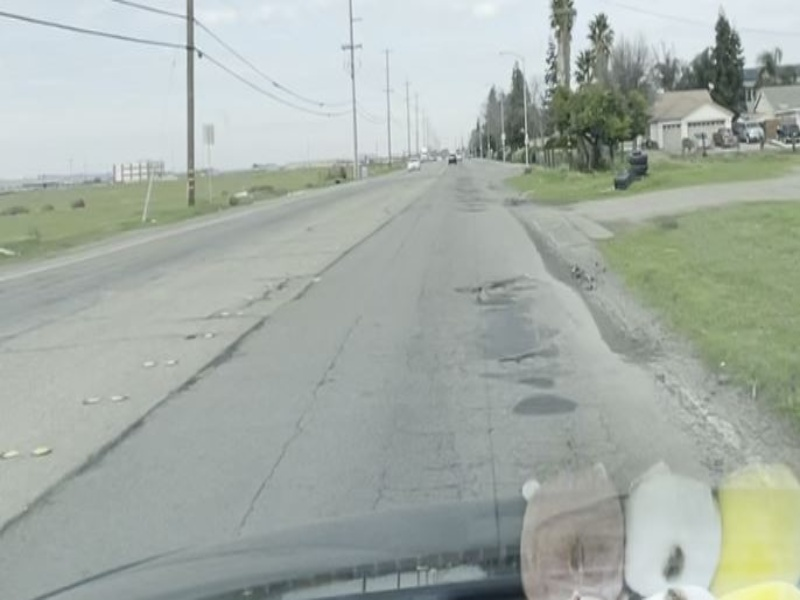pothole: (467, 278, 514, 296), (497, 349, 541, 368)
